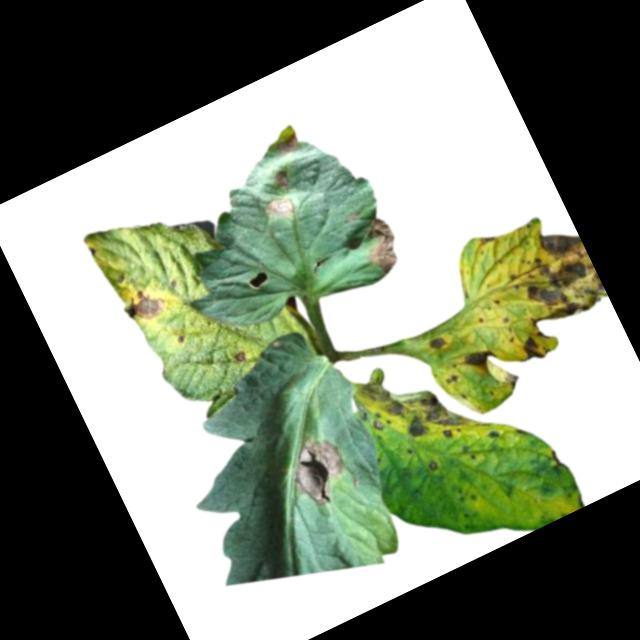Early_blight: (348, 348, 471, 468), (499, 220, 610, 336), (279, 427, 363, 514), (353, 210, 409, 280), (119, 282, 169, 328), (458, 338, 500, 375), (514, 328, 553, 367), (264, 189, 298, 223), (274, 132, 303, 159), (499, 366, 526, 394), (270, 165, 295, 190), (426, 329, 451, 354), (441, 367, 464, 390), (476, 230, 499, 249), (231, 346, 251, 365), (427, 457, 444, 474)
